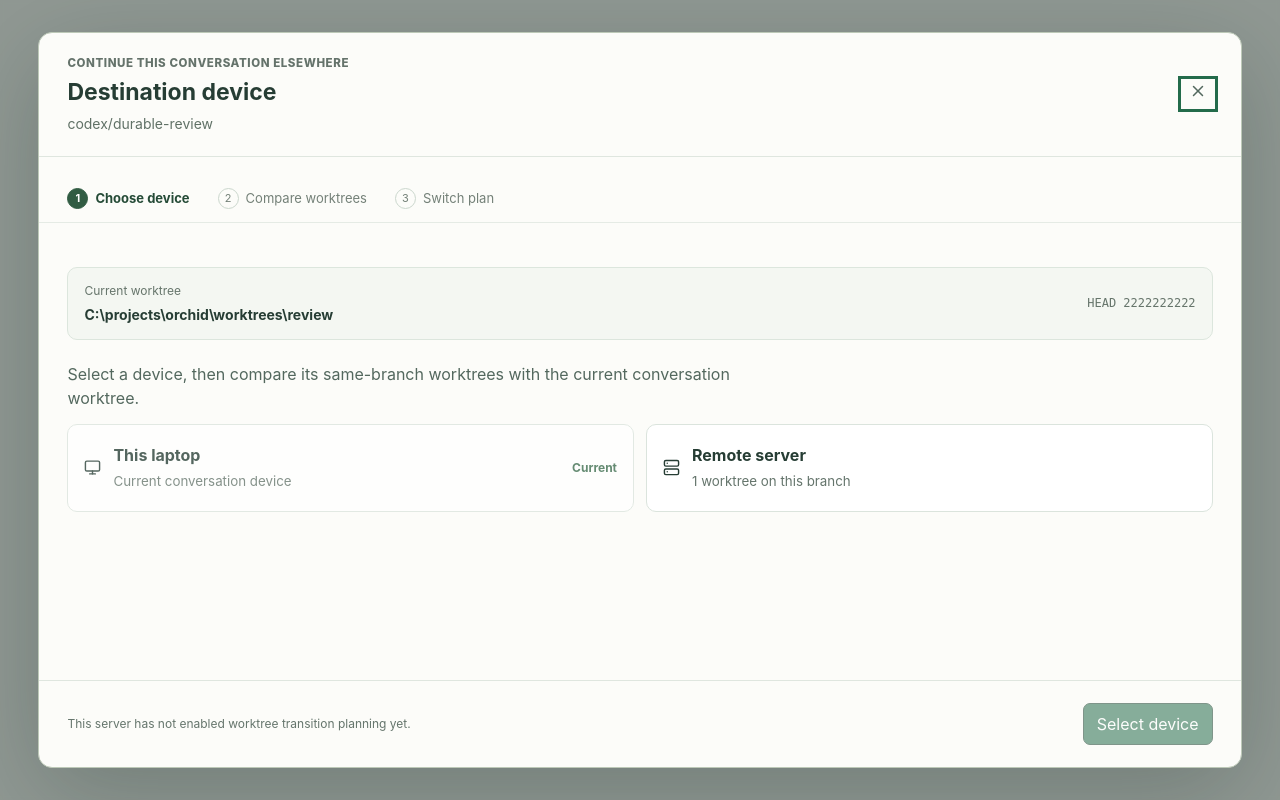
it: keeps the conversation branch fixed while comparing its worktrees on a selected device
Click the button "Remote server 1 worktree on this branch": x=749, y=455 [646, 424, 1213, 512]
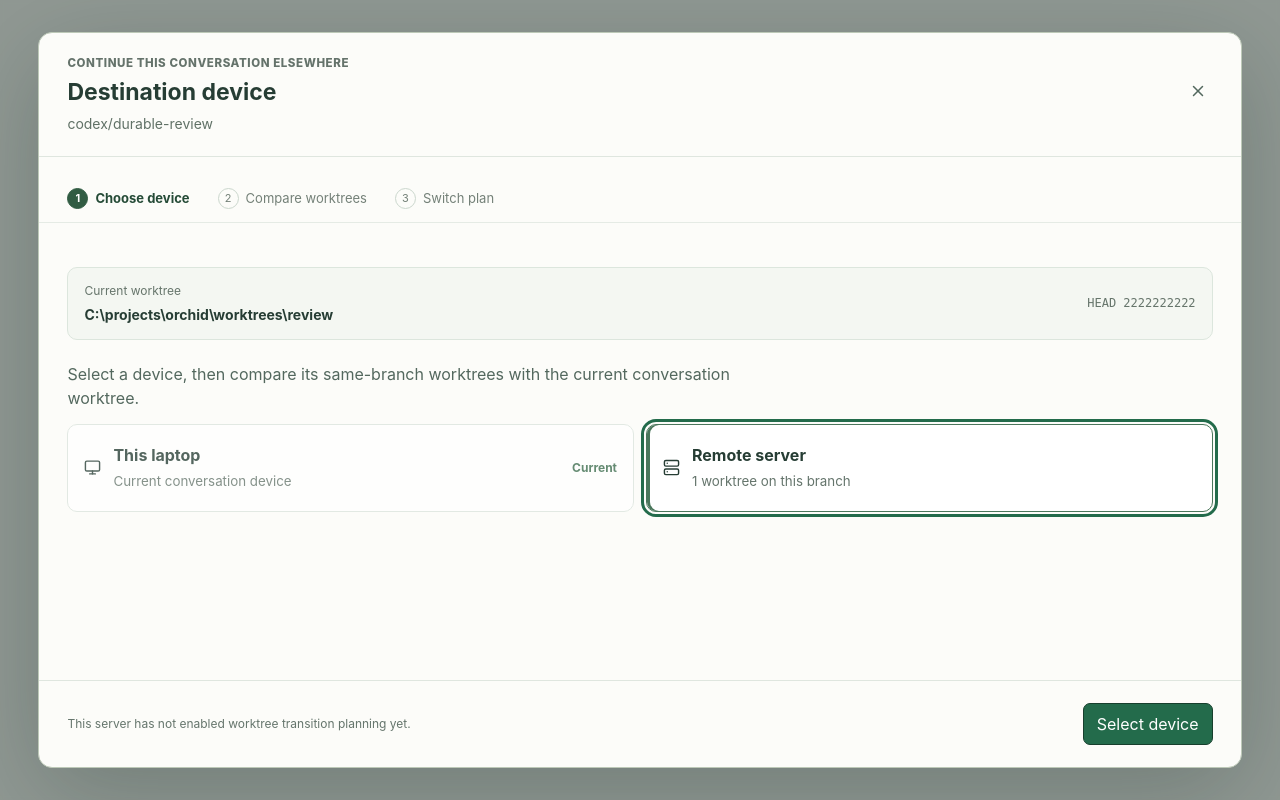
Click the button "Select device": x=1148, y=724 [1083, 703, 1213, 745]
(page scrolled)
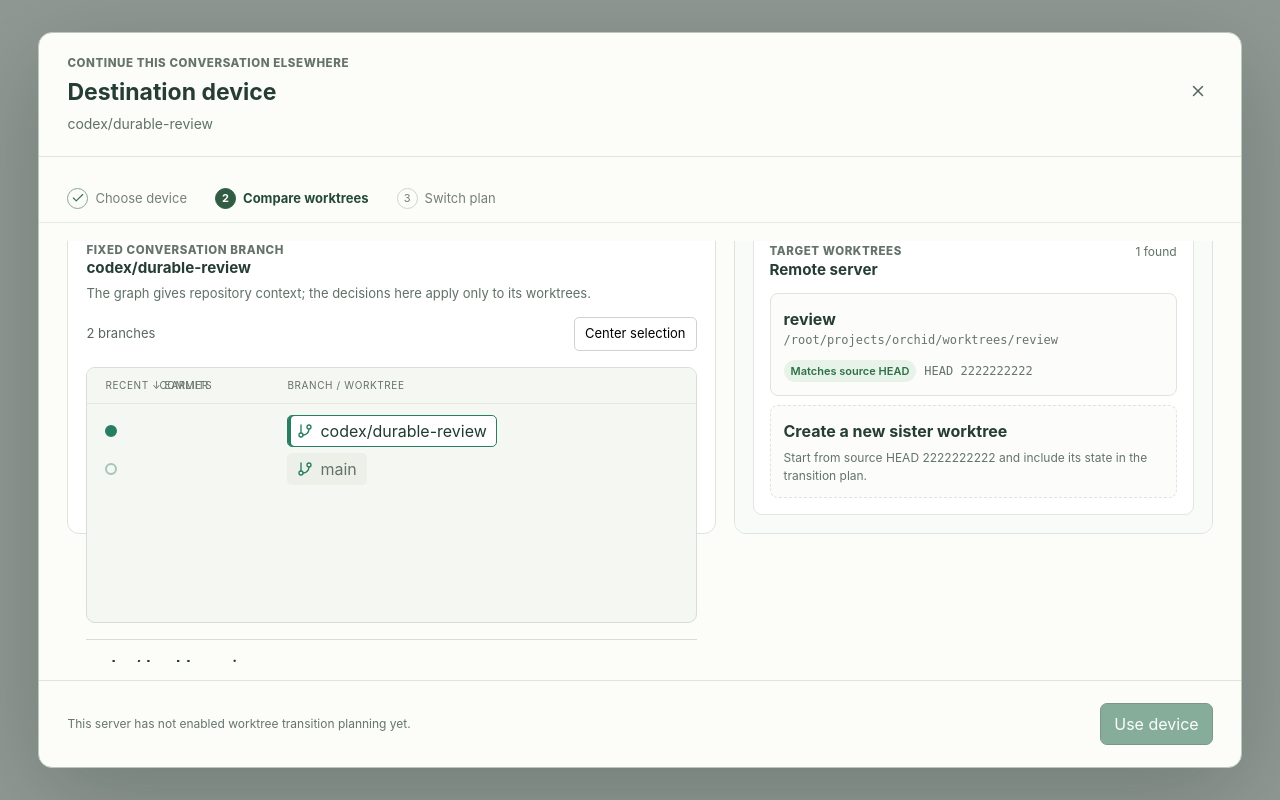
Expected: the text "Fixed conversation branch" is shown, [86, 243, 284, 257]
Expected: the element named "Repository branch graph" is shown, [86, 367, 696, 623]
Expected: the radio button labelled "review" is shown, [770, 293, 1177, 396]
